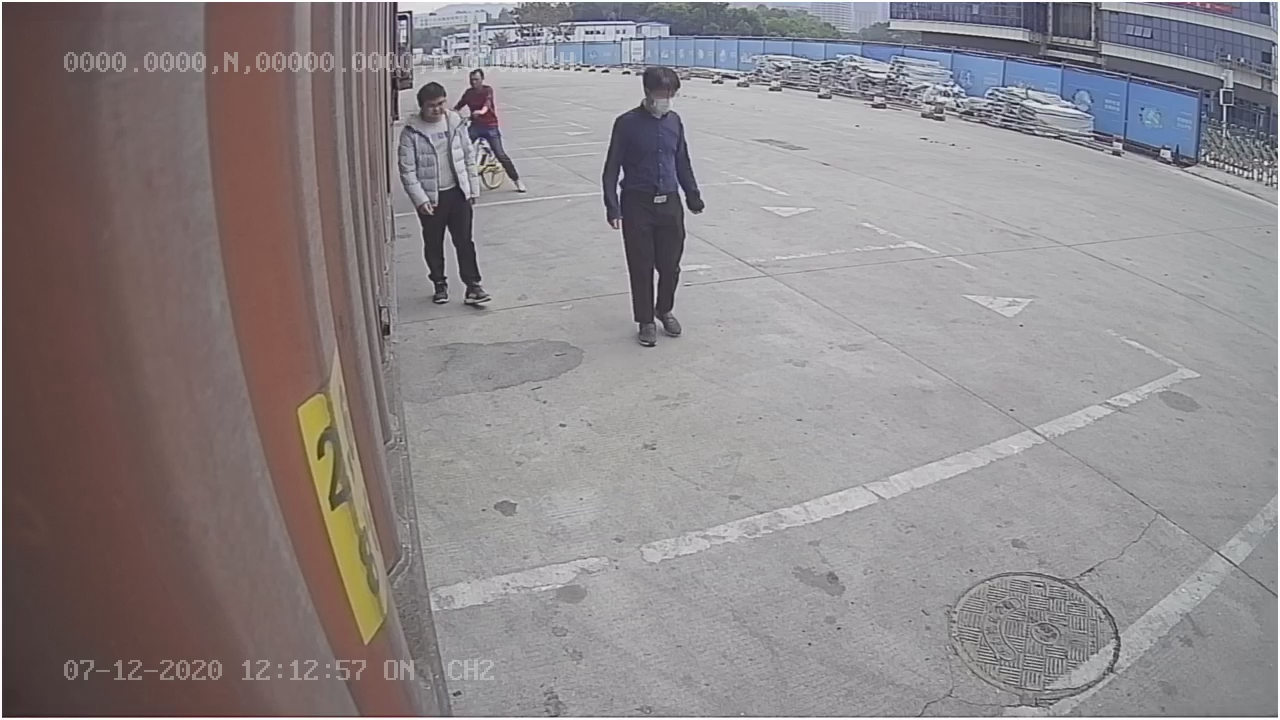person: (604, 64, 708, 347)
